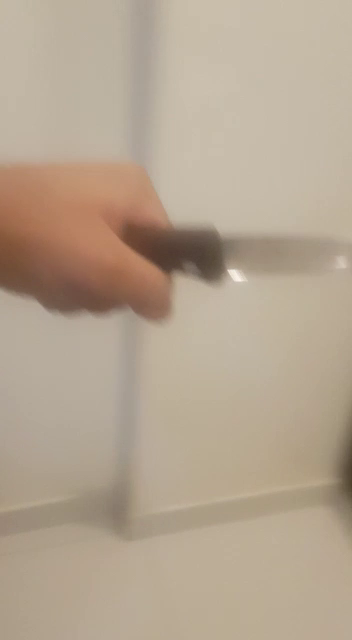knife: (51, 173, 352, 359)
